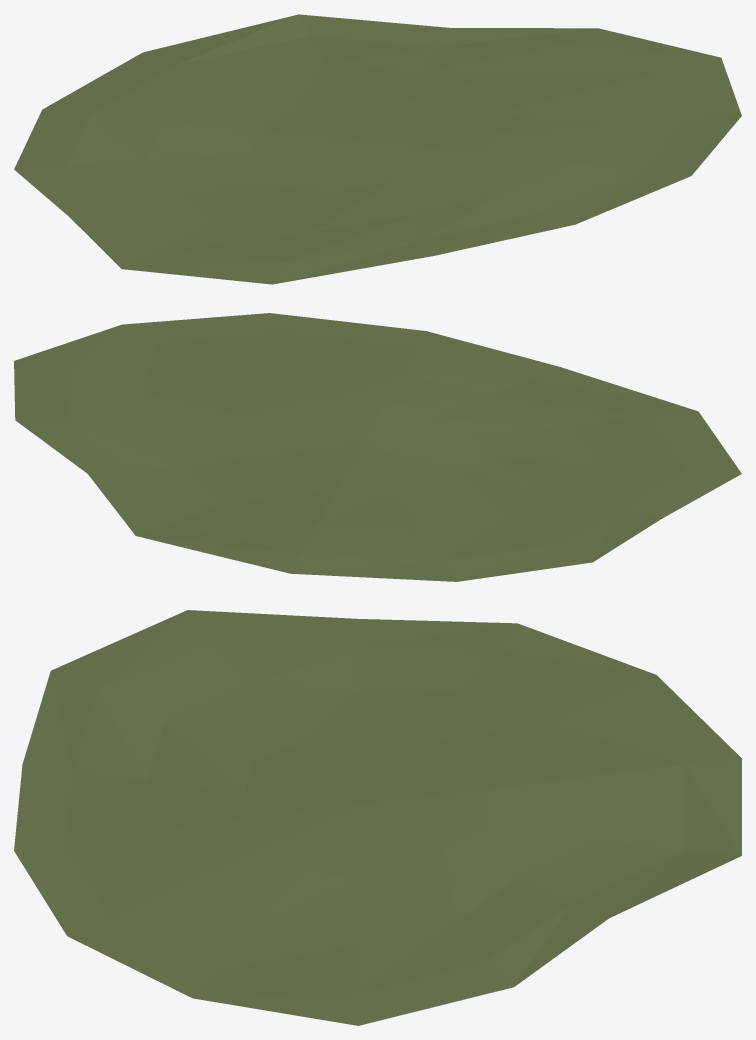
The model's file is grass-terrain-blob-389daa.glb.
3 views of the same model, one above another, from view 1: azimuth 30°, elevation 25°; view 2: azimuth 150°, elevation 25°; view 3: azimuth 270°, elevation 25° (orthographic). The views are drawn at different scales.
Parts seen in each view (by area): view 1: blob-mesh; view 2: blob-mesh; view 3: blob-mesh.
Boxes of the visible parts, left/top/right/bottom form: blob-mesh: left=14, top=14, right=741, bottom=284; blob-mesh: left=14, top=313, right=741, bottom=581; blob-mesh: left=14, top=610, right=741, bottom=1025.
Size of the model in its own units: 8.11 by 0.0775 by 6.
